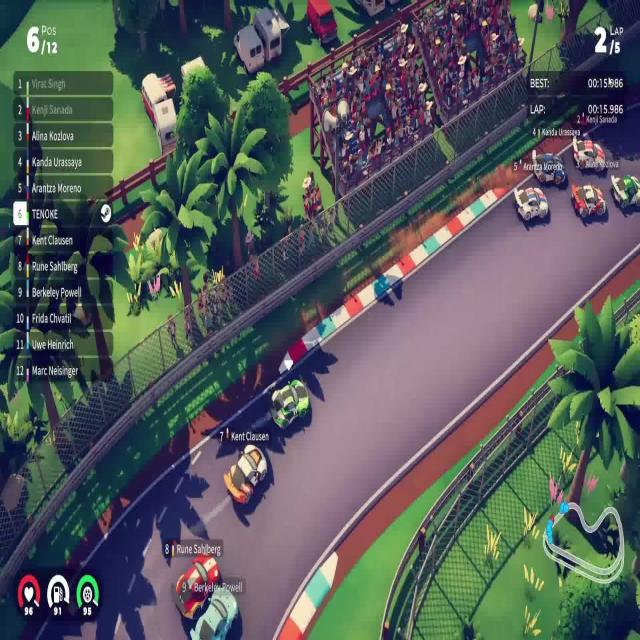car: (175, 553, 221, 620), (223, 443, 267, 506), (189, 585, 239, 639), (269, 377, 310, 431), (570, 180, 606, 220), (530, 148, 566, 187), (572, 133, 606, 174), (513, 184, 548, 223)
